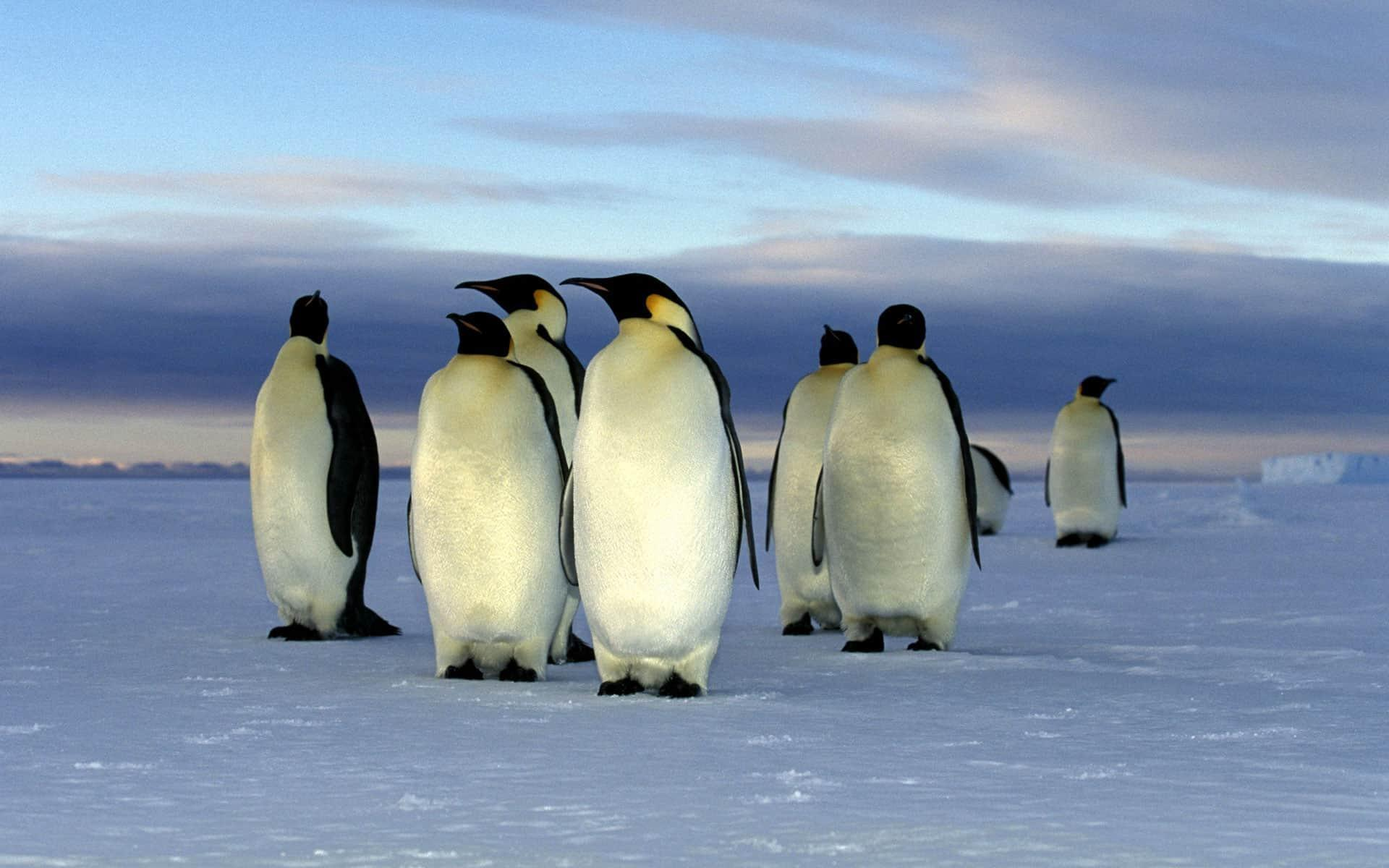Penguin: (559, 271, 760, 697), (811, 304, 980, 653), (407, 311, 566, 678), (250, 293, 399, 640), (765, 326, 860, 633), (459, 274, 586, 462), (1045, 375, 1126, 548), (970, 445, 1014, 536)
